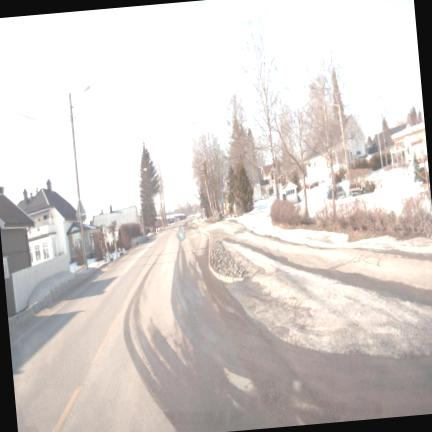Road: (10, 221, 431, 431)
